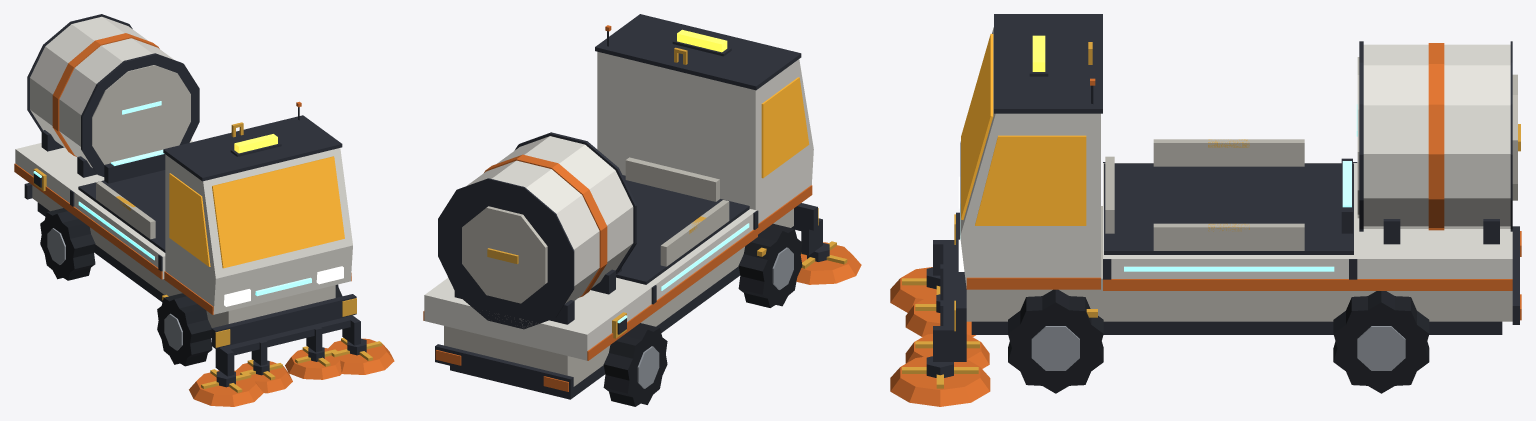
File: vozidlo-lunar.glb
3 renders of one model, left to right at view 1: azimuth 30°, elevation 25°; view 2: azimuth 150°, elevation 25°; view 3: azimuth 270°, elevation 25°, orthographic. The views are drawn at different scales.
Visible parts, largest first — view 1: karoserie, kolo_1, kolo_3, kartac_1, kartac_2, kartac_4, kartac_3; view 2: karoserie, kolo_3, kolo_1, kartac_1; view 3: karoserie, kolo_4, kolo_2, kartac_2, kartac_1, kartac_3, kartac_4.
Part boxes in pixels (x1,y1,x2,y2): karoserie: [14, 14, 360, 376]; kolo_1: [157, 293, 212, 366]; kolo_3: [40, 208, 95, 280]; kartac_1: [189, 369, 263, 406]; kartac_2: [328, 337, 394, 374]; kartac_4: [285, 346, 341, 379]; kartac_3: [236, 359, 292, 393]; karoserie: [423, 14, 822, 399]; kolo_3: [603, 323, 667, 406]; kolo_1: [738, 223, 802, 307]; kartac_1: [796, 241, 861, 284]; karoserie: [933, 14, 1521, 361]; kolo_4: [1333, 291, 1429, 393]; kolo_2: [1008, 289, 1103, 393]; kartac_2: [890, 356, 990, 406]; kartac_1: [890, 267, 940, 312]; kartac_3: [905, 294, 975, 336]; kartac_4: [905, 334, 989, 368].
Bounding box in the file's own units: 3 × 3.2 × 6.01.
